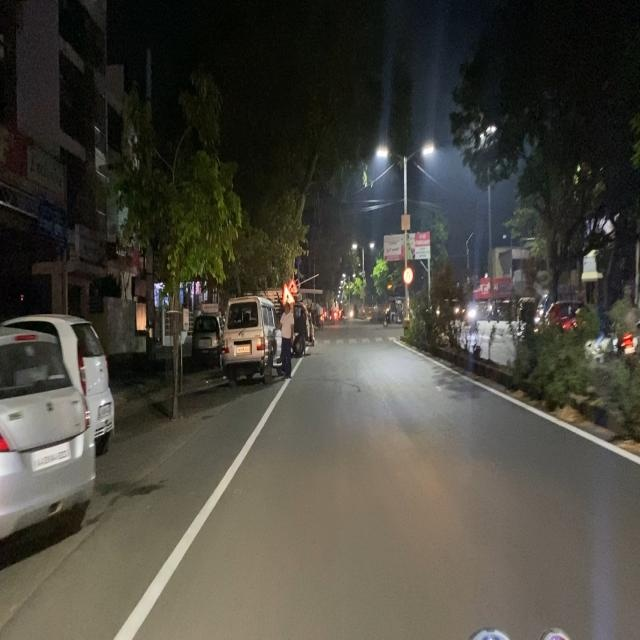bien_cam: (281, 281, 294, 308), (401, 266, 414, 284), (288, 276, 300, 294)
